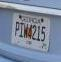1: (37, 25, 41, 41)
2: (32, 25, 37, 40)
4: (28, 24, 32, 39)
5: (41, 26, 46, 43)
I: (19, 22, 24, 38)
P: (15, 20, 20, 37)
W: (24, 23, 28, 38)
